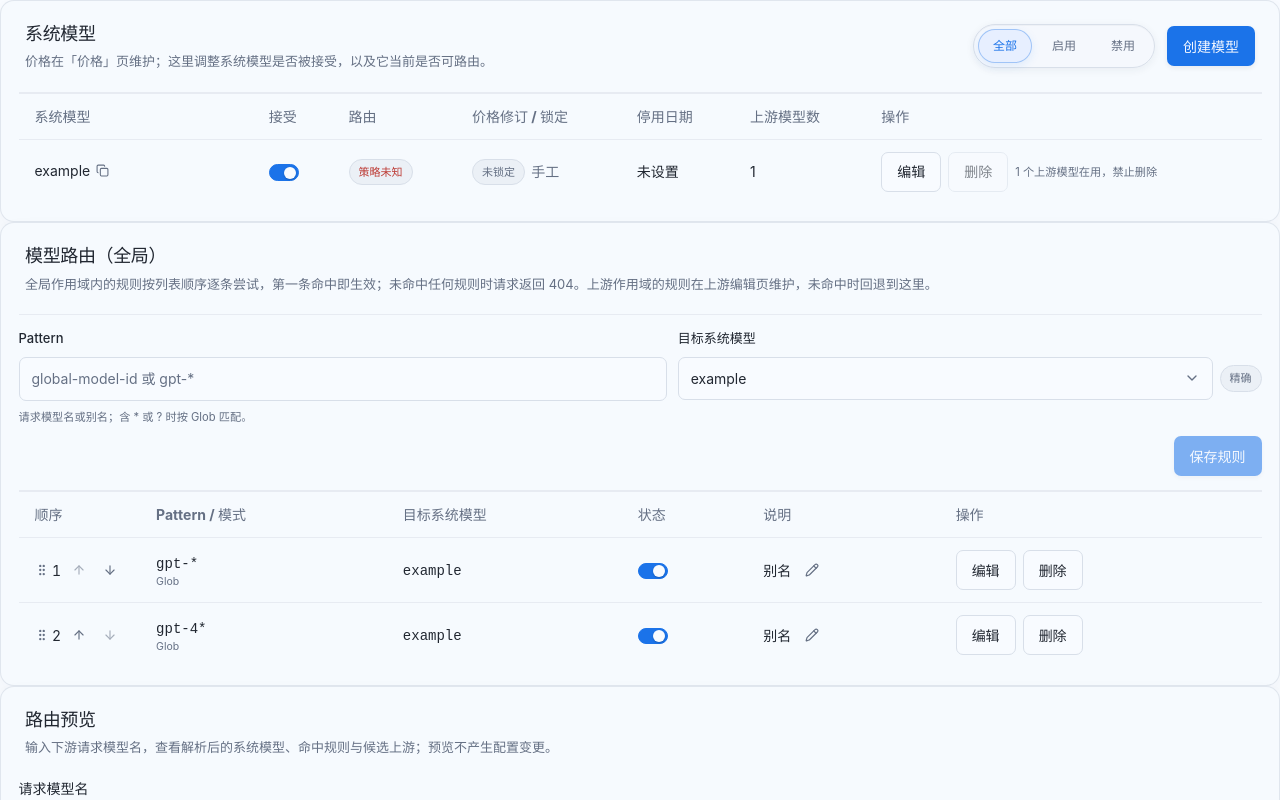
Test: models route rules › restores the previous order when the reorder request fails
The image size is (1280, 800).
Expected: the heading "模型路由（全局）" is shown, top-left (25, 246), bottom-right (166, 266)
What coordinates should you click on to do the following:
click the button named "下移 gpt-*"
I would click on:
 (110, 570)
Its box is top-left (96, 556), bottom-right (124, 584).
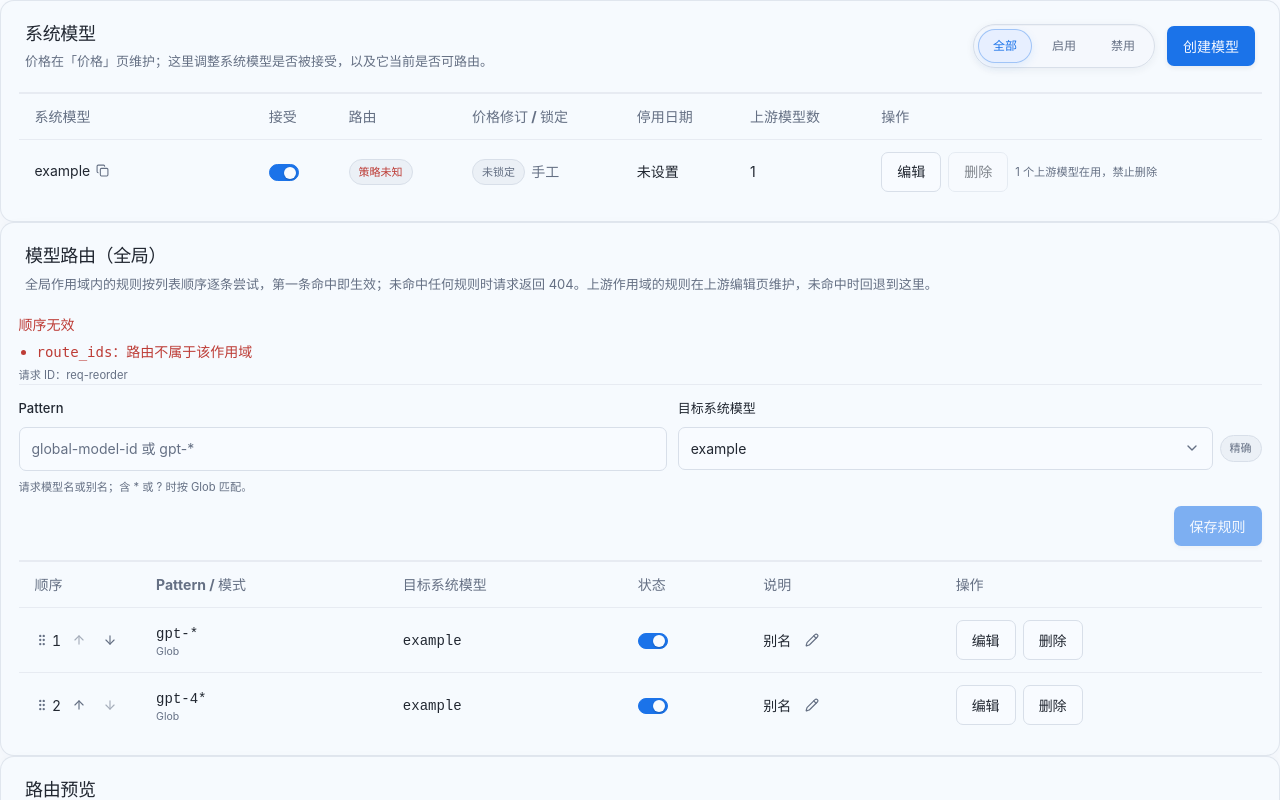
Expected: the row "1 gpt-* Glob example 别名 编辑 删除" is shown, top-left (18, 608), bottom-right (1262, 673)
Expected: the message shows "route_ids", top-left (36, 344), bottom-right (112, 360)
